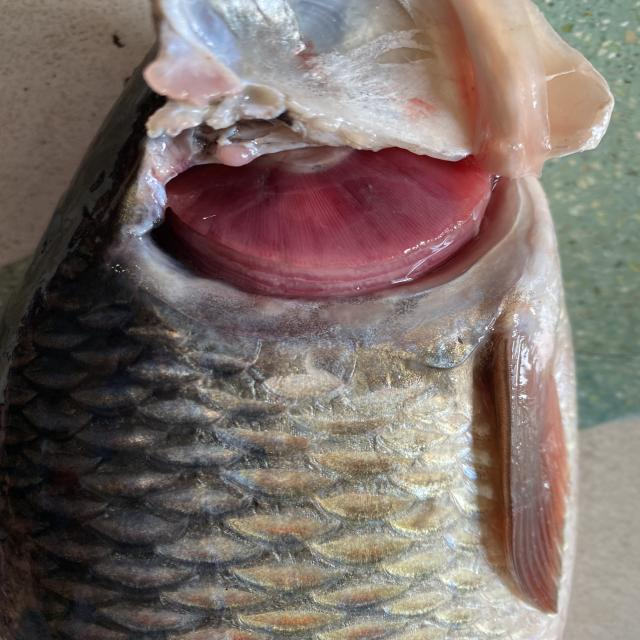Fresh: (132, 105, 530, 319)
